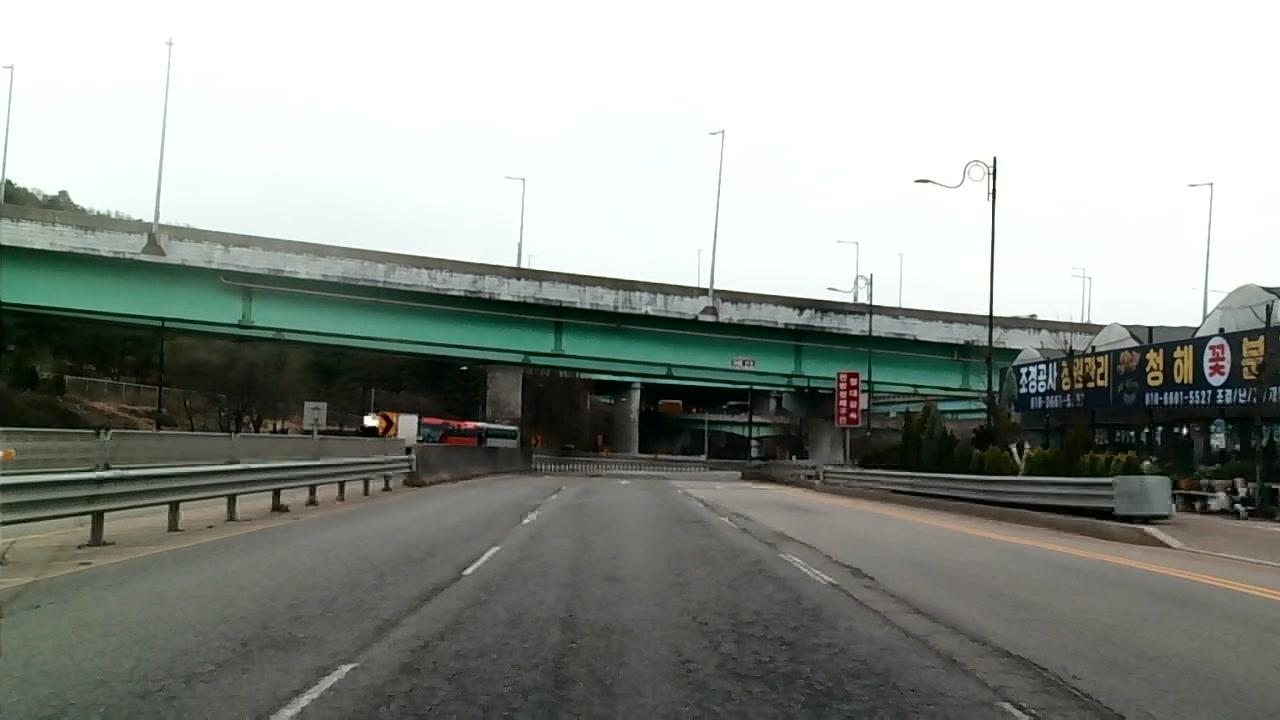erosion: (681, 615, 912, 720), (386, 607, 595, 720)
vcrack: (777, 531, 1131, 717), (263, 543, 491, 720), (828, 583, 1038, 720)
